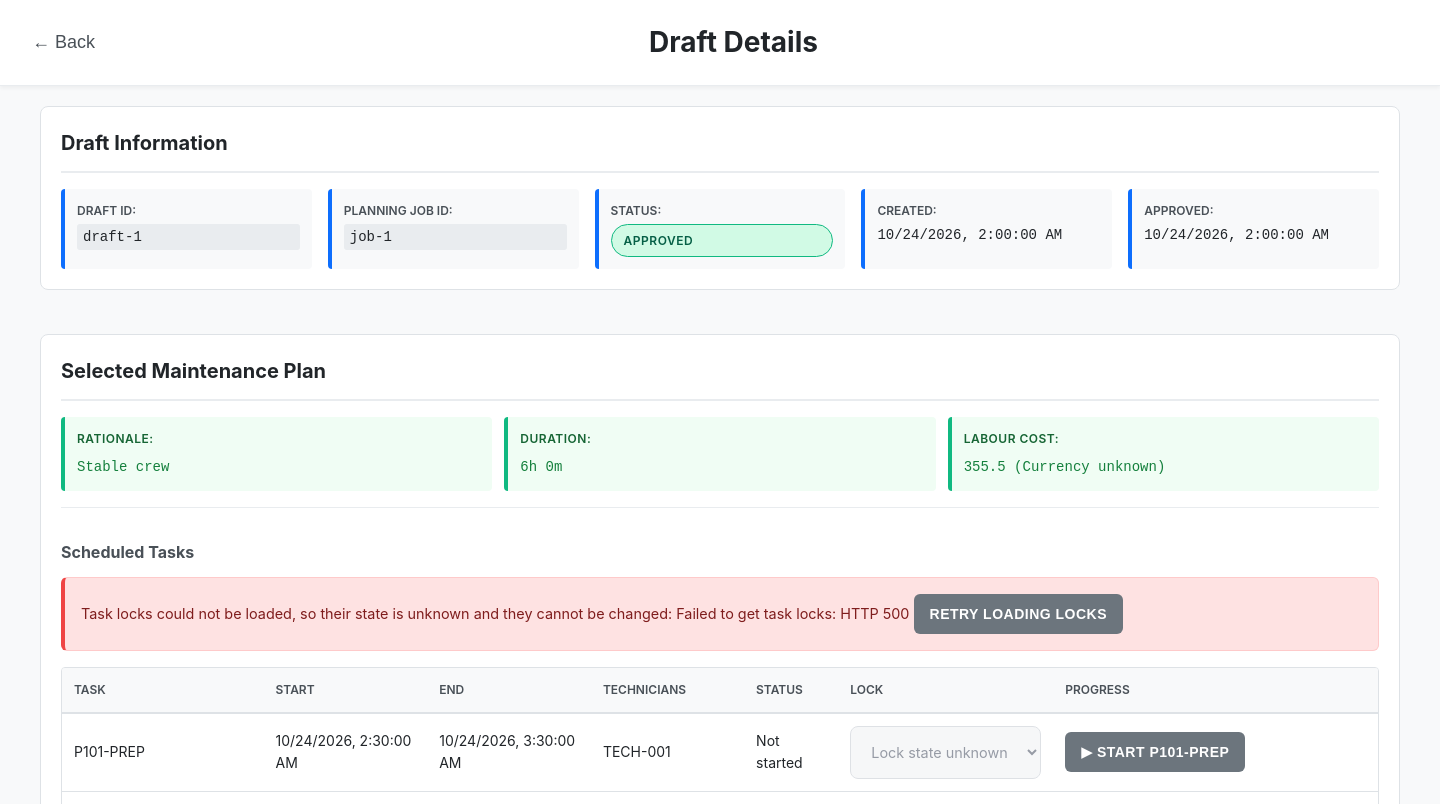
Test case: DraftDetailScreen draft management › reports a failed lock load beside the lock controls, disables them instead of showing "Unlocked", and recovers on retry
The width and height of the screenshot is (1440, 804).
Check: the element with test id "locks-error" shows "Task locks could not be loaded", box 81,605 -> 676,622
Check: the element with test id "locks-error" shows "Failed to get task locks: HTTP 500", box 676,605 -> 910,622
What coordinates should you click on to do the following:
click the button "Retry loading locks"
I would click on:
 (1018, 614)
Its box is 914,594 -> 1123,634.
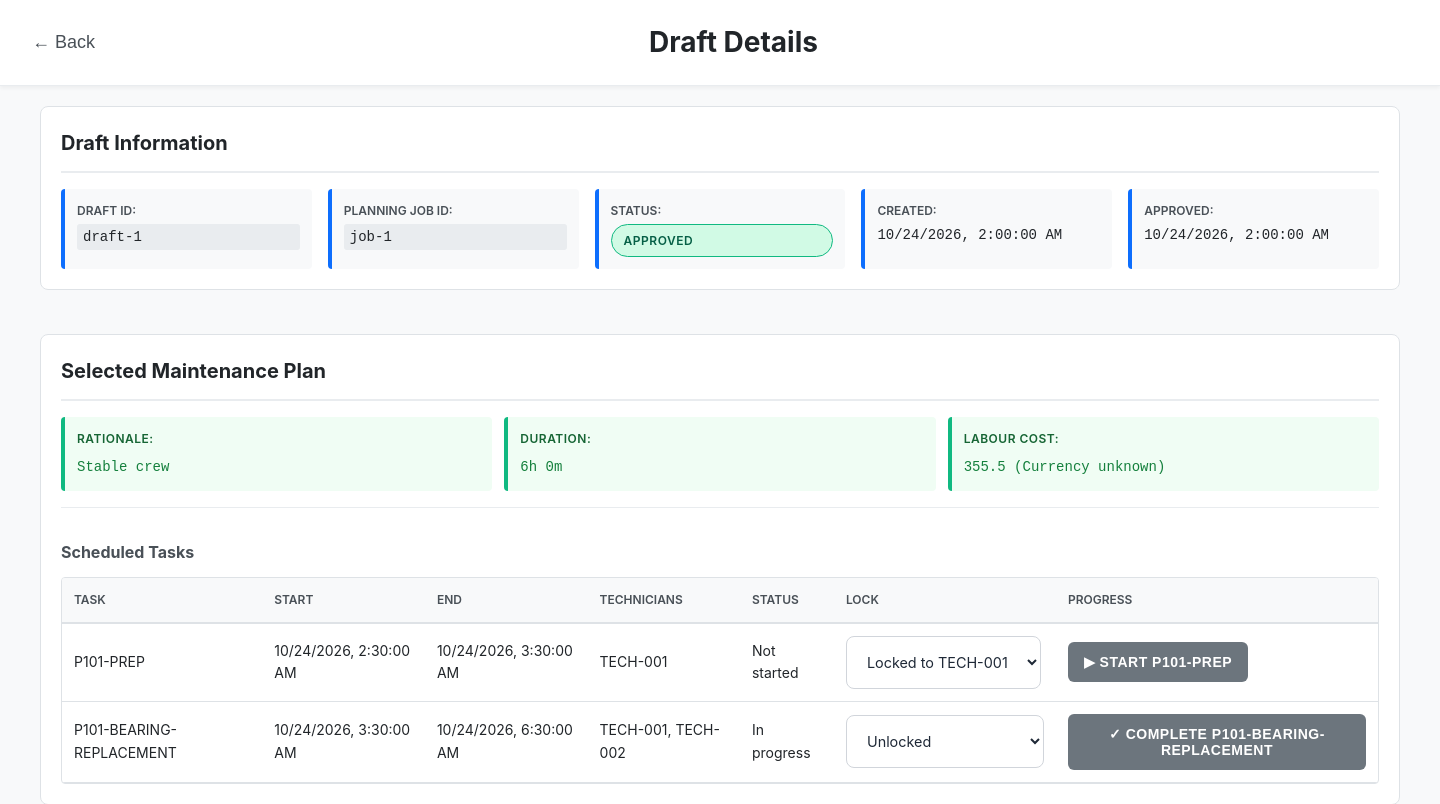
Check: the element with test id "locks-error" is gone
Check: the dropdown named "Lock P101-PREP" is enabled, box 846,636 -> 1041,688
Check: the dropdown named "Lock P101-PREP" shows "Locked to TECH-001", box 846,636 -> 1041,688
